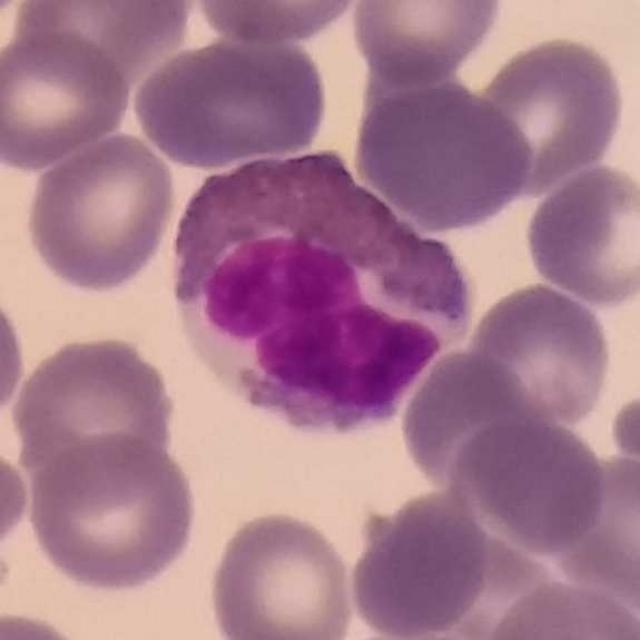Eosinophil: (166, 145, 472, 438)
RBC: (21, 430, 202, 596), (350, 76, 536, 232), (129, 31, 331, 170), (467, 30, 629, 196), (6, 331, 180, 485), (22, 129, 180, 296), (463, 279, 616, 431), (451, 412, 610, 553), (345, 492, 493, 640), (207, 505, 363, 640), (397, 344, 529, 494), (0, 25, 134, 172), (522, 160, 640, 308), (552, 448, 640, 614), (346, 0, 507, 87), (11, 0, 195, 76), (479, 575, 640, 639), (190, 0, 372, 47), (0, 435, 33, 583), (0, 278, 29, 436), (607, 386, 640, 512), (0, 605, 96, 640)
